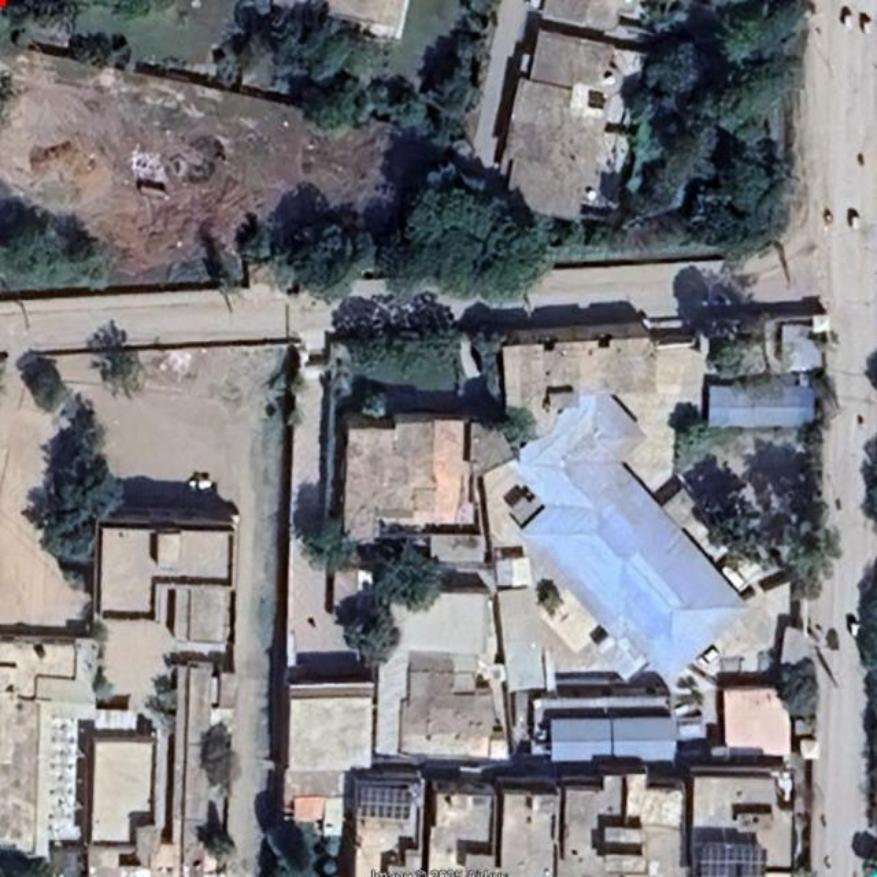Solarpanel: (702, 842, 767, 876), (352, 787, 409, 818)
